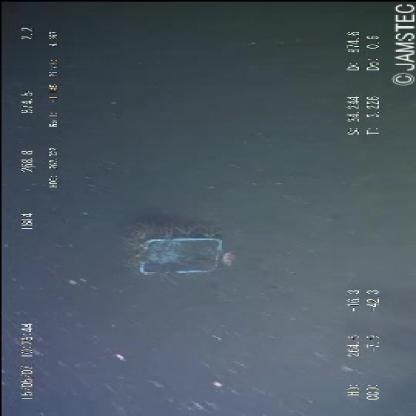Rác: (120, 228, 237, 282)
